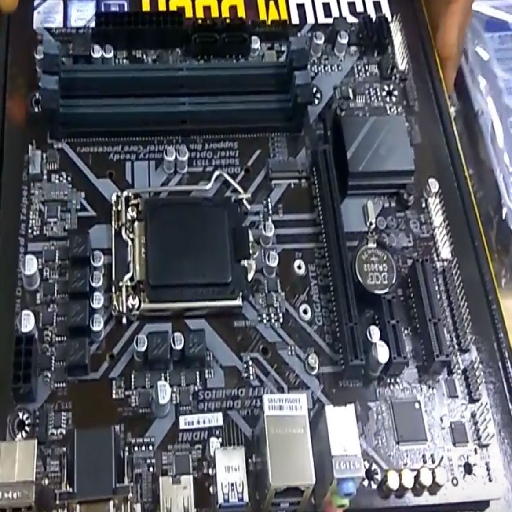CPU: (114, 198, 276, 305)
GPU: (306, 134, 370, 372)
MOTHERBOARD: (14, 11, 502, 508)
RAM: (38, 42, 313, 134)
SSD: (266, 155, 310, 184)
